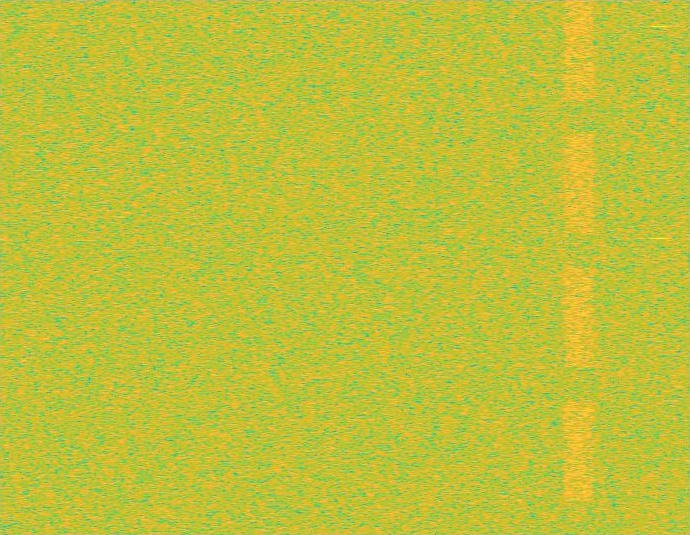5G: (562, 0, 596, 534)
Radar: (653, 0, 667, 534)
